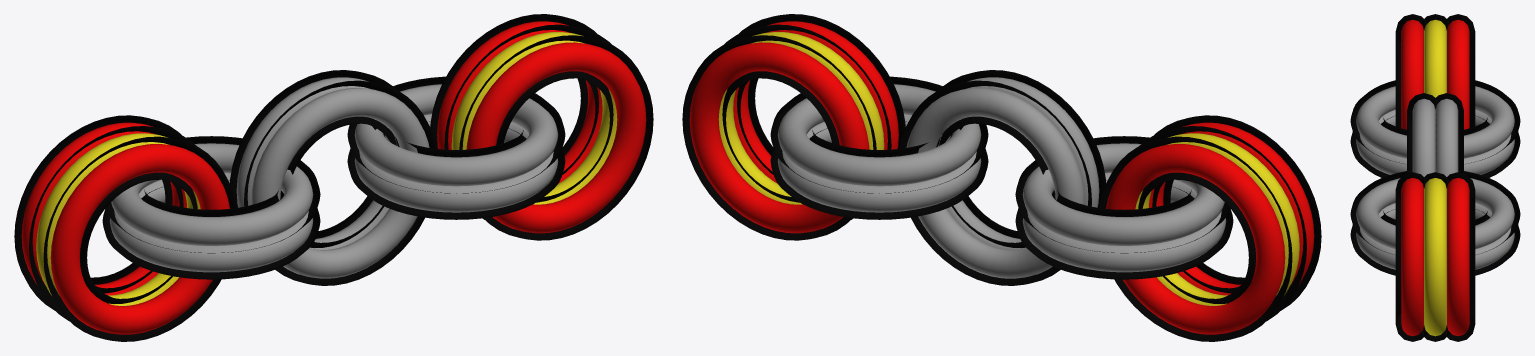
Rendered from sunburst_tutorial_02.glb.
3 views of the same model, side by side, from view 1: azimuth 30°, elevation 25°; view 2: azimuth 150°, elevation 25°; view 3: azimuth 270°, elevation 25° (orthographic). The views are drawn at different scales.
Parts seen in each view (by area): view 1: Torus.517, Torus.524, Torus.512, Torus.521, Torus.514, Torus.515, Torus.522, Torus.518, Torus.525, Torus.513, Torus.523, Torus.516; view 2: Torus.518, Torus.525, Torus.513, Torus.521, Torus.514, Torus.515, Torus.522, Torus.517, Torus.524, Torus.512, Torus.523, Torus.516; view 3: Torus.514, Torus.521, Torus.524, Torus.525, Torus.523, Torus.515, Torus.522, Torus.517, Torus.518, Torus.512, Torus.513, Torus.516.
Part boxes in pixels (x1=…): Torus.517: x1=43, y1=136, x2=237, y2=341; Torus.524: x1=459, y1=35, x2=653, y2=240; Torus.512: x1=244, y1=80, x2=436, y2=285; Torus.521: x1=347, y1=76, x2=565, y2=193; Torus.514: x1=105, y1=136, x2=320, y2=253; Torus.515: x1=102, y1=173, x2=320, y2=279; Torus.522: x1=347, y1=114, x2=565, y2=219; Torus.518: x1=14, y1=115, x2=186, y2=310; Torus.525: x1=430, y1=14, x2=602, y2=183; Torus.513: x1=230, y1=70, x2=397, y2=249; Torus.523: x1=444, y1=24, x2=617, y2=219; Torus.516: x1=29, y1=126, x2=200, y2=321; Torus.518: x1=1098, y1=136, x2=1292, y2=341; Torus.525: x1=682, y1=35, x2=876, y2=240; Torus.513: x1=899, y1=80, x2=1091, y2=285; Torus.521: x1=770, y1=76, x2=988, y2=193; Torus.514: x1=1015, y1=136, x2=1230, y2=253; Torus.515: x1=1015, y1=173, x2=1233, y2=279; Torus.522: x1=770, y1=114, x2=988, y2=219; Torus.517: x1=1149, y1=115, x2=1321, y2=310; Torus.524: x1=733, y1=14, x2=905, y2=183; Torus.512: x1=938, y1=70, x2=1105, y2=249; Torus.523: x1=718, y1=24, x2=891, y2=219; Torus.516: x1=1135, y1=126, x2=1306, y2=321; Torus.514: x1=1350, y1=80, x2=1520, y2=164; Torus.521: x1=1350, y1=171, x2=1520, y2=254; Torus.524: x1=1395, y1=172, x2=1427, y2=341; Torus.525: x1=1443, y1=172, x2=1475, y2=341; Torus.523: x1=1420, y1=172, x2=1450, y2=341; Torus.515: x1=1350, y1=110, x2=1520, y2=177; Torus.522: x1=1350, y1=203, x2=1520, y2=275; Torus.517: x1=1395, y1=14, x2=1427, y2=129; Torus.518: x1=1443, y1=14, x2=1475, y2=129; Torus.512: x1=1407, y1=93, x2=1438, y2=176; Torus.513: x1=1432, y1=93, x2=1463, y2=176; Torus.516: x1=1420, y1=14, x2=1450, y2=97.
Size of the model in its own units: 9.6 by 3 by 3.
